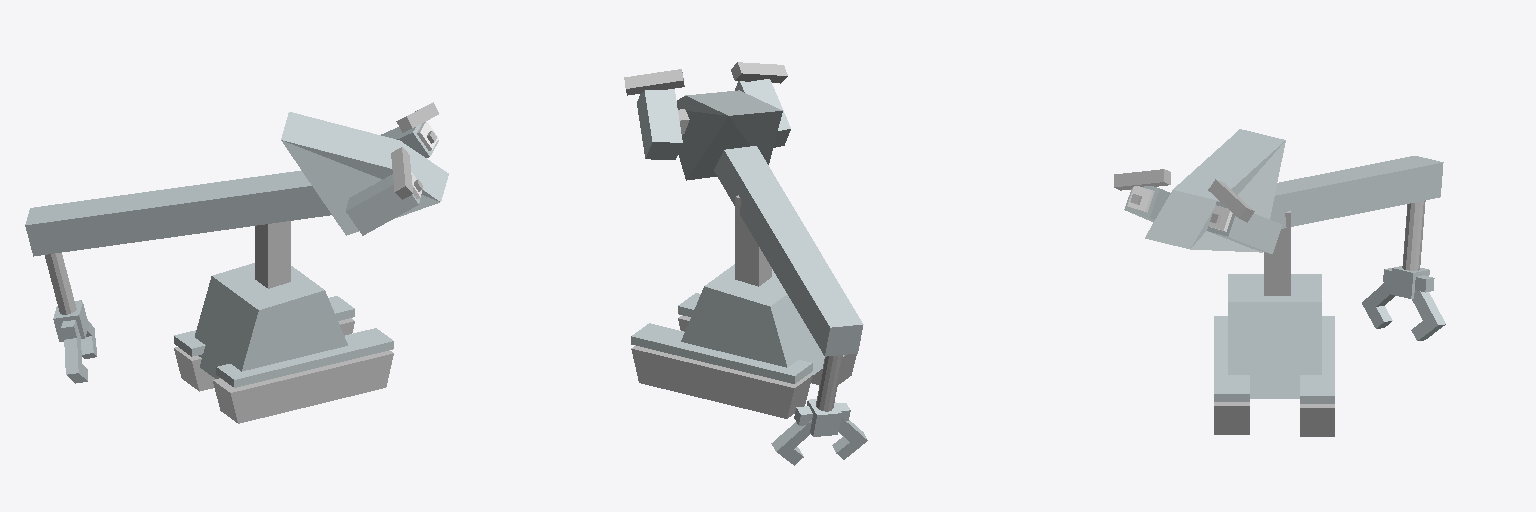
The model's file is RobotPosing.obj.
The picture shows the model from 3 angles: view 1: azimuth 30°, elevation 25°; view 2: azimuth 150°, elevation 25°; view 3: azimuth 270°, elevation 25°; orthographic projection.
Parts seen in each view (by area): view 1: group[number redacted], group[number redacted], group[number redacted], group[number redacted], group[number redacted], group[number redacted], group[number redacted], group[number redacted], group[number redacted]; view 2: group[number redacted], group[number redacted], group[number redacted], group[number redacted], group[number redacted], group[number redacted], group[number redacted], group[number redacted], group[number redacted]; view 3: group[number redacted], group[number redacted], group[number redacted], group[number redacted], group[number redacted], group[number redacted], group[number redacted], group[number redacted], group[number redacted], group[number redacted].
Part boxes in pixels (left/top/right/bottom): group[number redacted]: left=174, top=221, right=393, bottom=423; group[number redacted]: left=25, top=170, right=331, bottom=256; group[number redacted]: left=281, top=112, right=448, bottom=235; group[number redacted]: left=346, top=172, right=422, bottom=235; group[number redacted]: left=45, top=253, right=76, bottom=314; group[number redacted]: left=381, top=121, right=438, bottom=157; group[number redacted]: left=391, top=147, right=412, bottom=199; group[number redacted]: left=53, top=302, right=88, bottom=341; group[number redacted]: left=396, top=102, right=438, bottom=132; group[number redacted]: left=631, top=195, right=856, bottom=418; group[number redacted]: left=714, top=146, right=863, bottom=356; group[number redacted]: left=677, top=90, right=782, bottom=180; group[number redacted]: left=637, top=89, right=682, bottom=159; group[number redacted]: left=735, top=79, right=790, bottom=147; group[number redacted]: left=624, top=69, right=684, bottom=95; group[number redacted]: left=816, top=355, right=842, bottom=411; group[number redacted]: left=731, top=62, right=787, bottom=83; group[number redacted]: left=807, top=399, right=841, bottom=436; group[number redacted]: left=1214, top=210, right=1334, bottom=436; group[number redacted]: left=1145, top=129, right=1285, bottom=252; group[number redacted]: left=1270, top=156, right=1443, bottom=228; group[number redacted]: left=1207, top=201, right=1282, bottom=253; group[number redacted]: left=1402, top=200, right=1425, bottom=270; group[number redacted]: left=1124, top=186, right=1170, bottom=222; group[number redacted]: left=1114, top=169, right=1170, bottom=190; group[number redacted]: left=1208, top=179, right=1254, bottom=222; group[number redacted]: left=1390, top=266, right=1429, bottom=298; group[number redacted]: left=1411, top=313, right=1445, bottom=340.
Size of the model in its own units: 0.8382 by 0.6608 by 0.7393.